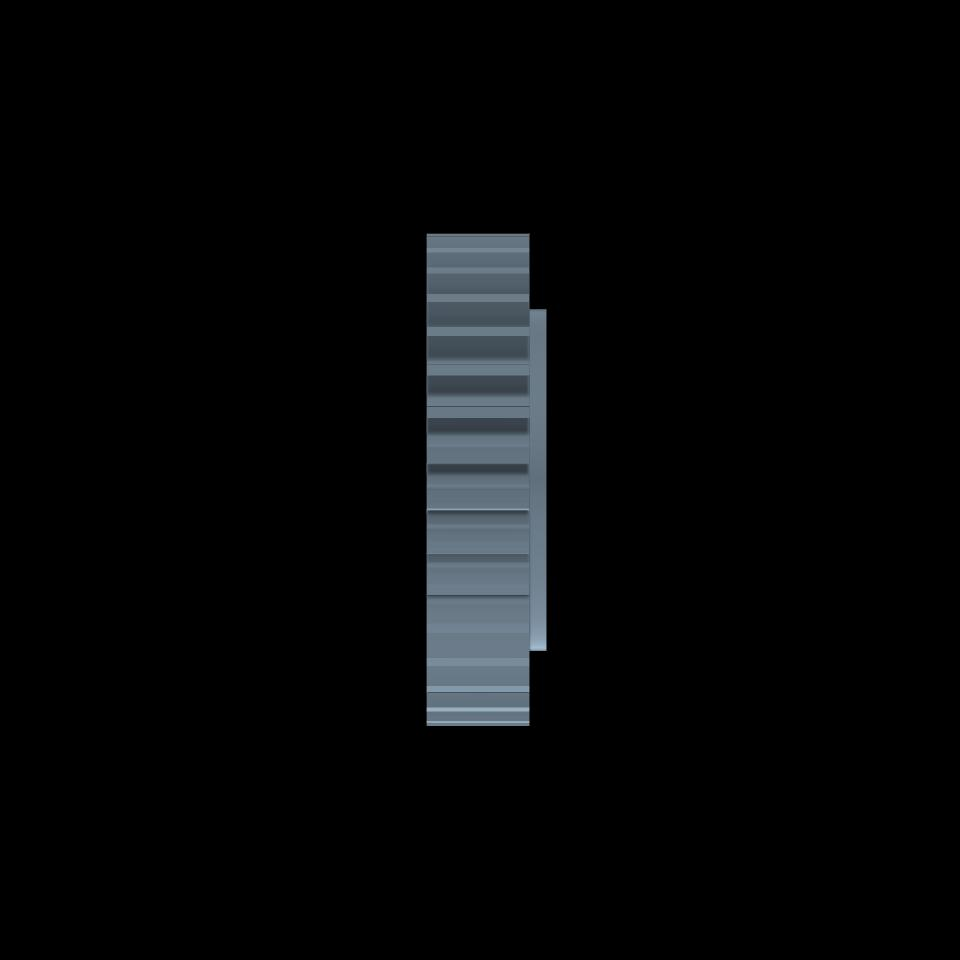Straight: (426, 234, 529, 725)
